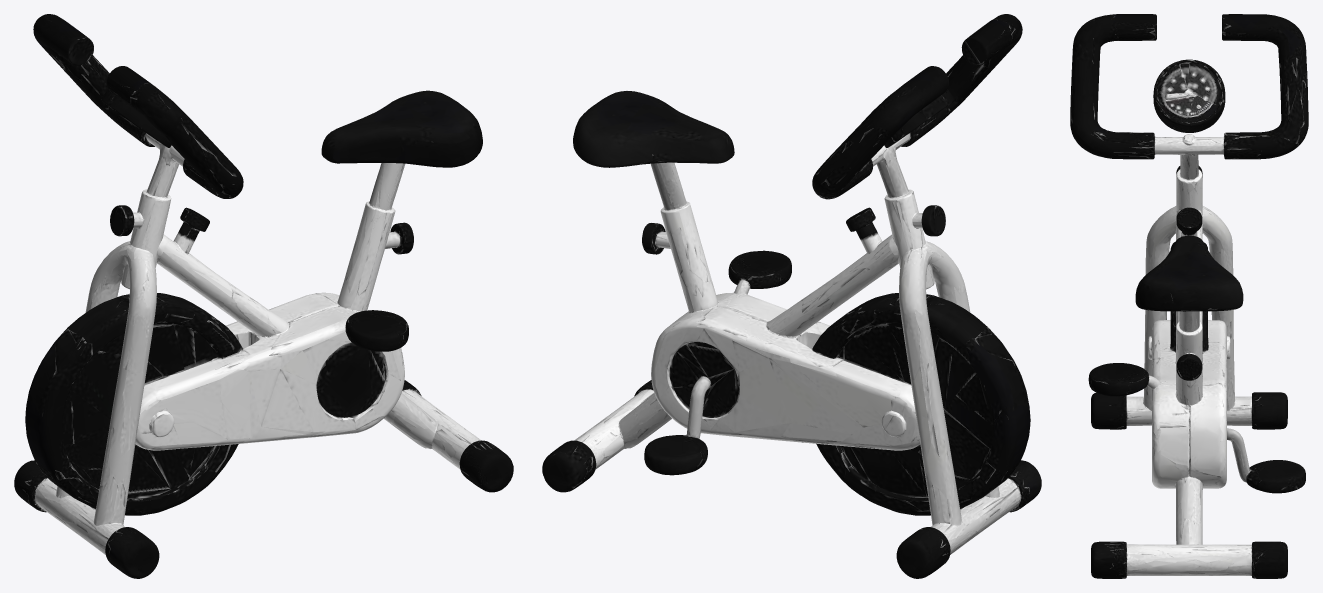
File: exbike.glb
3 renders of one model, left to right at view 1: azimuth 30°, elevation 25°; view 2: azimuth 150°, elevation 25°; view 3: azimuth 270°, elevation 25°, orthographic. The views are drawn at different scales.
Bounding box in the file's own units: 1.79 × 1.9 × 0.9818.
1 material, 1 textured.
